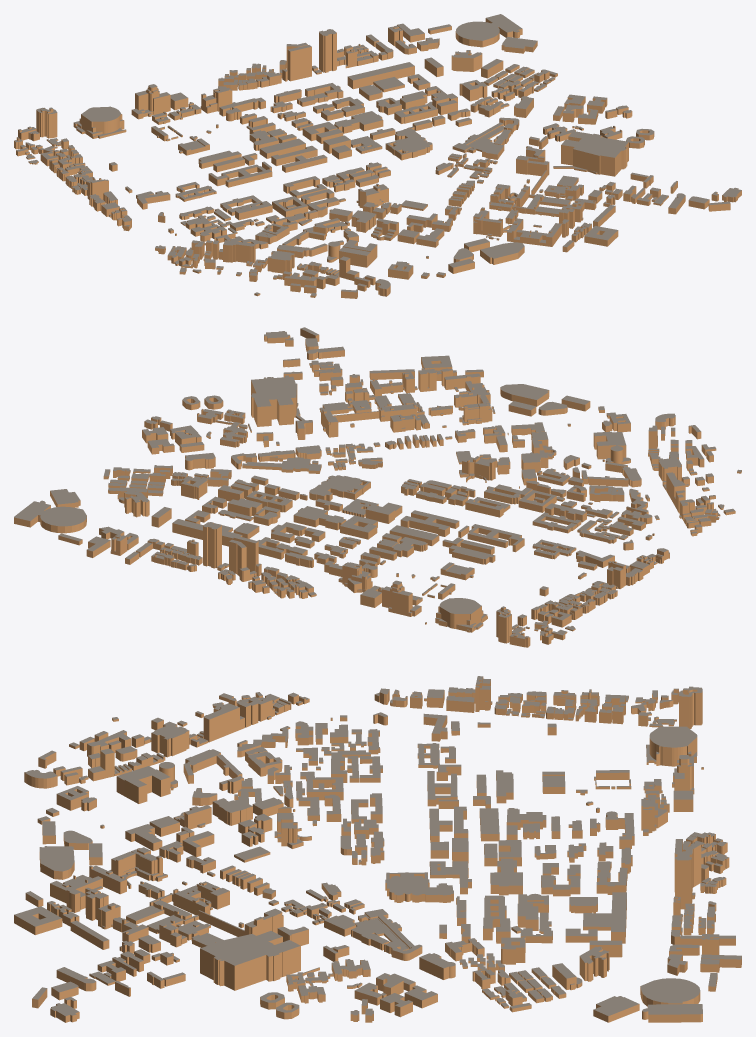
The model's file is Buildings.dae.
3 renders of one model, top to bottom at view 1: azimuth 30°, elevation 25°; view 2: azimuth 150°, elevation 25°; view 3: azimuth 270°, elevation 25°, orthographic. The views are drawn at different scales.
Visible parts, largest first — view 1: map_6.osm_buildings; view 2: map_6.osm_buildings; view 3: map_6.osm_buildings.
Part boxes in pixels (x1,y1,x2,y2): map_6.osm_buildings: (14,14,741,298); map_6.osm_buildings: (14,327,741,647); map_6.osm_buildings: (14,676,741,1022).
Size of the model in its own units: 1386 by 1305 by 96.98.
